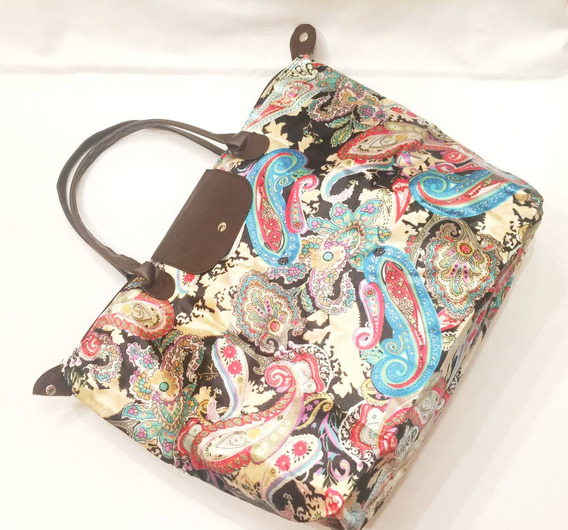cartera: (30, 23, 544, 530)
